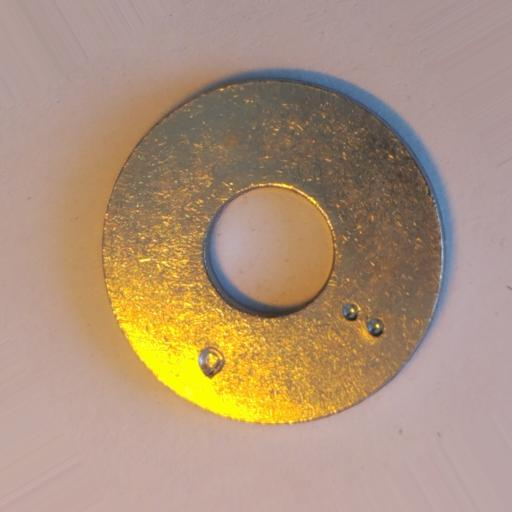circular_cavity: (197, 346, 226, 380), (366, 317, 385, 337), (342, 302, 360, 321)
